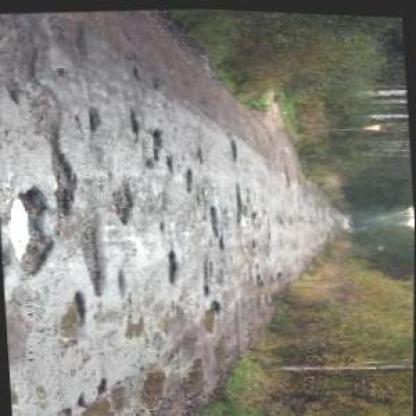pothole: (4, 186, 58, 281), (0, 12, 49, 111), (79, 205, 108, 297), (50, 287, 91, 347), (114, 178, 136, 228), (201, 298, 225, 333), (144, 127, 166, 161), (206, 204, 224, 237), (164, 247, 180, 284), (82, 104, 102, 133), (125, 110, 143, 138)
